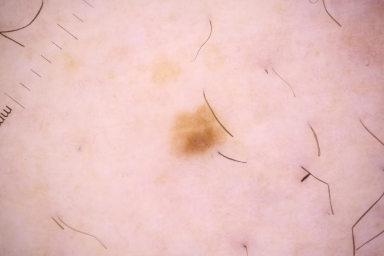nevus: (174, 107, 220, 154)
